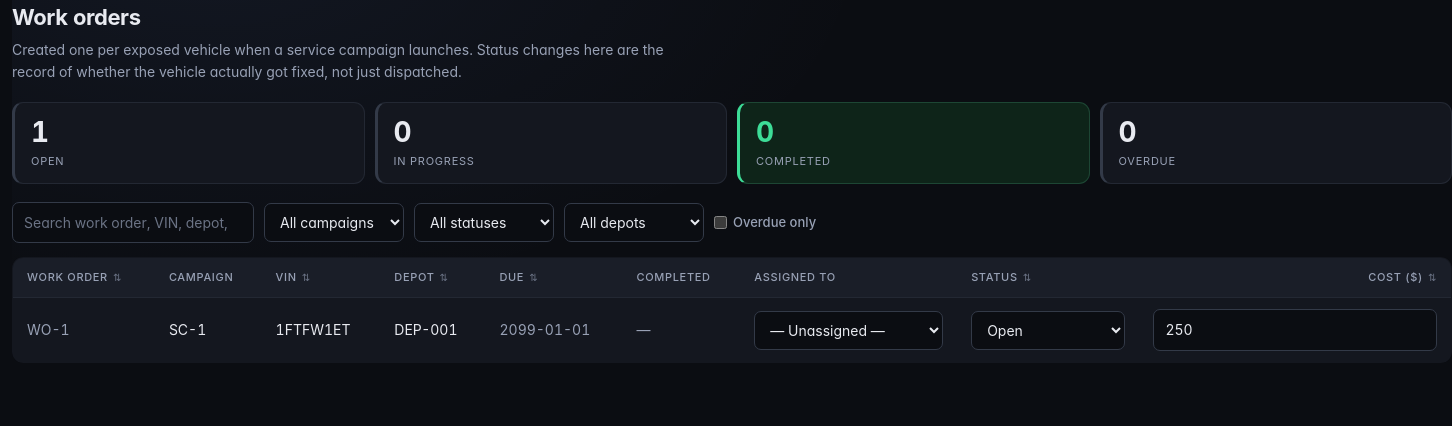
WorkOrders › rejects Infinity rather than silently clearing the cost
Replace the text in the field showing "250" with "Infinity" at (1295, 330), box [1153, 309, 1437, 351]
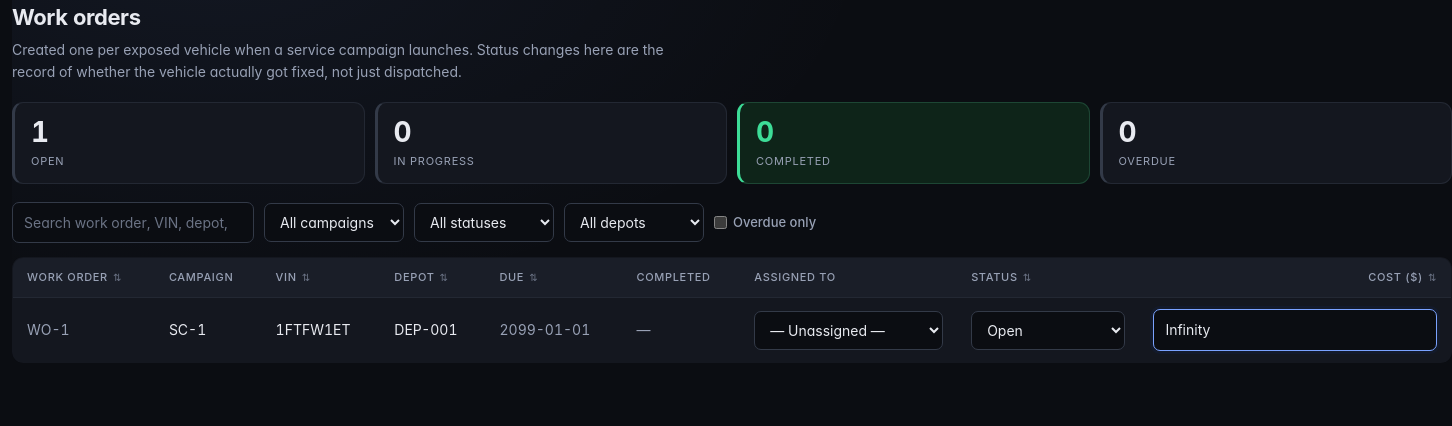
Press Tab
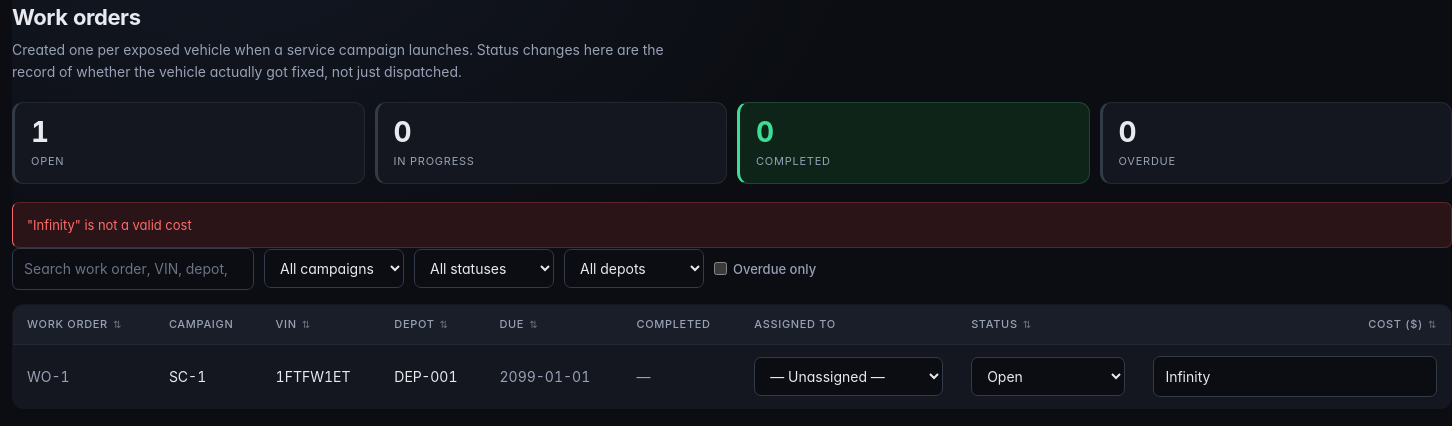
Result: the text "\"Infinity\" is not a valid cost" is shown at [12, 202, 1451, 248]
